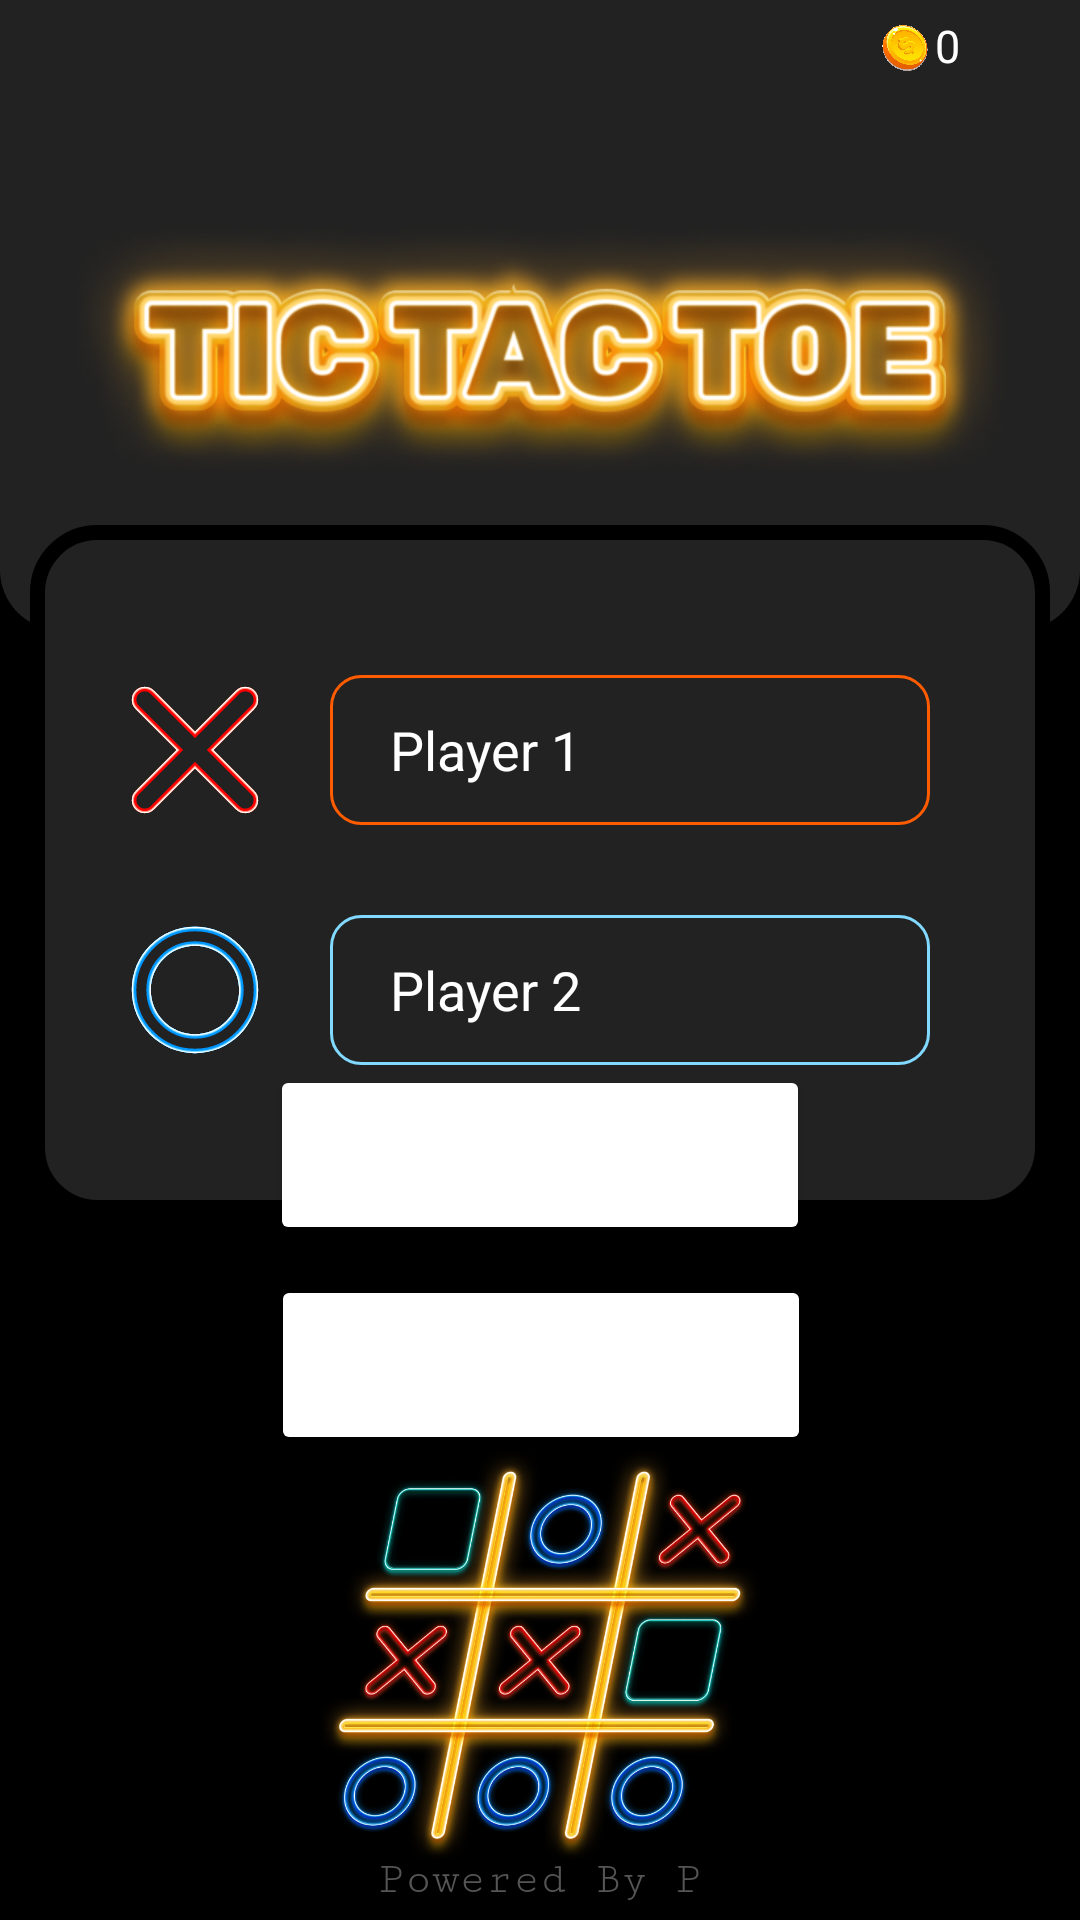

Named icons in this screenshot (1080x1920) and their bounding boxes, bbox=[x1, y1, x2, y2]:
coincoinhh: bbox=[882, 25, 928, 71]
